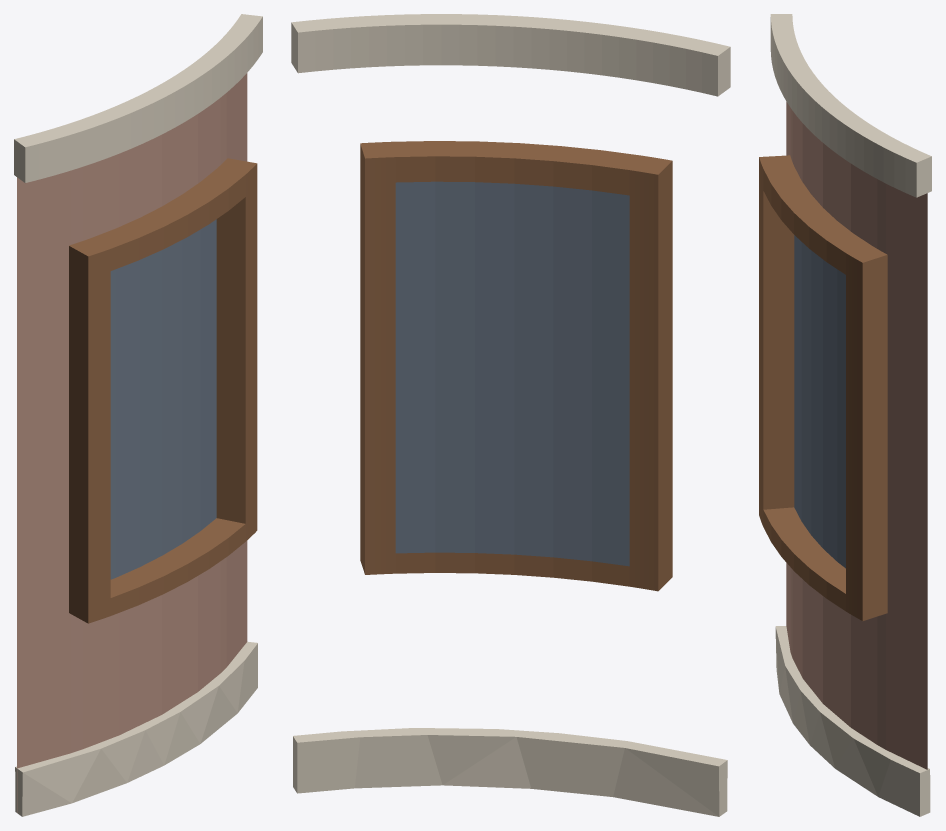
File: ArcWindow_R2_A45.glb
3 renders of one model, left to right at view 1: azimuth 30°, elevation 25°; view 2: azimuth 150°, elevation 25°; view 3: azimuth 270°, elevation 25°, orthographic. The views are drawn at different scales.
Visible parts, largest first — view 1: PBK_Brick_ArcWindow_R2_A45_Exterior_Surface.001, PBK_Continuous_Frame_Brick_Window.003, PBK_Arc_PBK_glass.002, PBK_Arc_PBK_base_trim.007, PBK_floor_band.048; view 2: PBK_Arc_PBK_glass.002, PBK_Continuous_Frame_Brick_Window.003, PBK_Arc_PBK_base_trim.007, PBK_floor_band.048; view 3: PBK_Brick_ArcWindow_R2_A45_Exterior_Surface.001, PBK_Continuous_Frame_Brick_Window.003, PBK_Arc_PBK_glass.002, PBK_floor_band.048, PBK_Arc_PBK_base_trim.007.
Part boxes in pixels (<box>): PBK_Brick_ArcWindow_R2_A45_Exterior_Surface.001: <box>17,73,247,812</box>; PBK_Continuous_Frame_Brick_Window.003: <box>69,158,257,623</box>; PBK_Arc_PBK_glass.002: <box>110,219,216,579</box>; PBK_Arc_PBK_base_trim.007: <box>15,641,257,816</box>; PBK_floor_band.048: <box>14,14,262,182</box>; PBK_Arc_PBK_glass.002: <box>395,181,629,566</box>; PBK_Continuous_Frame_Brick_Window.003: <box>360,141,672,591</box>; PBK_Arc_PBK_base_trim.007: <box>293,728,727,816</box>; PBK_floor_band.048: <box>291,14,730,96</box>; PBK_Brick_ArcWindow_R2_A45_Exterior_Surface.001: <box>786,101,927,769</box>; PBK_Continuous_Frame_Brick_Window.003: <box>759,155,887,620</box>; PBK_Arc_PBK_glass.002: <box>794,235,845,568</box>; PBK_floor_band.048: <box>770,14,931,197</box>; PBK_Arc_PBK_base_trim.007: <box>775,626,930,816</box>.
Size of the model in its own units: 1.46 by 3 by 0.7167.
